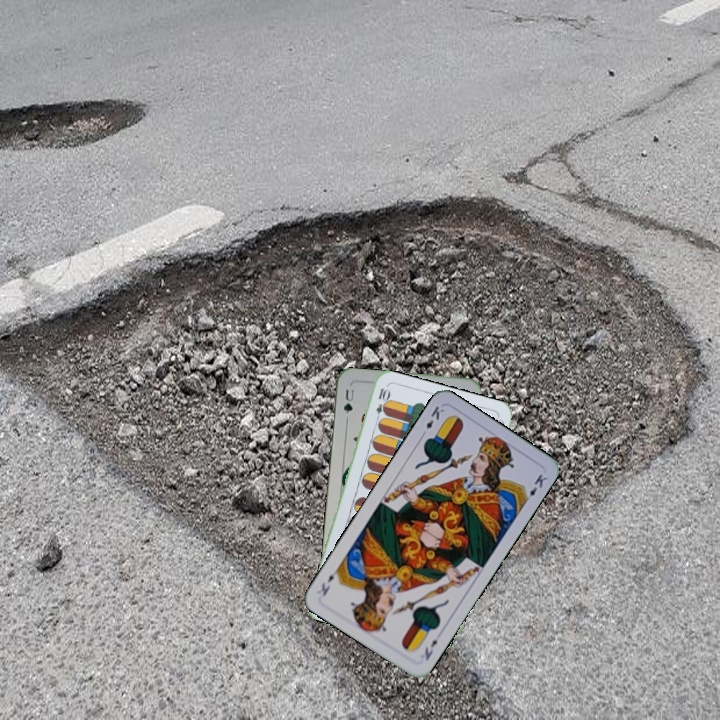E10: (371, 384, 391, 425)
EK: (417, 402, 447, 439), (420, 635, 440, 663)
GU: (339, 385, 357, 416)
